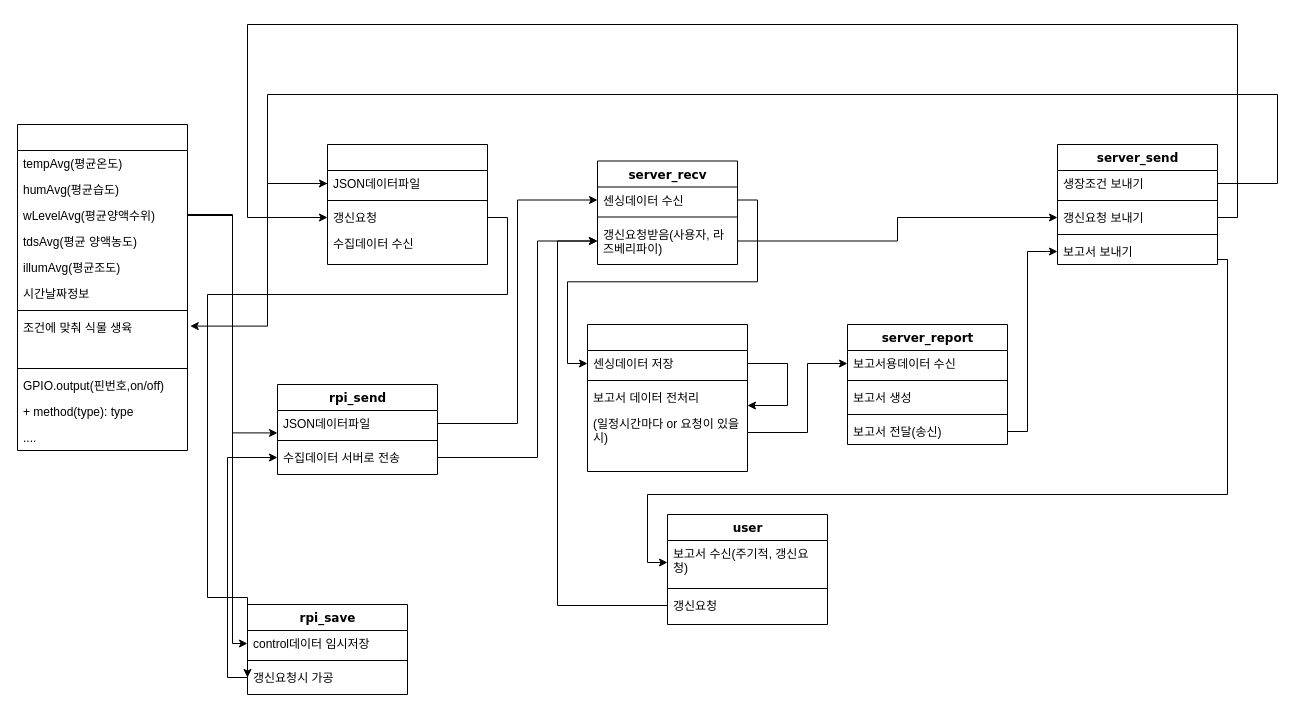
The diagram is 1303 pixels wide and 712 high, and some of its shapes have lost their labels. Each missing label, with the box of its shape:
rpi_control: (16, 124, 188, 450)
rpi_recv: (326, 144, 488, 264)
server_save: (586, 324, 748, 472)
